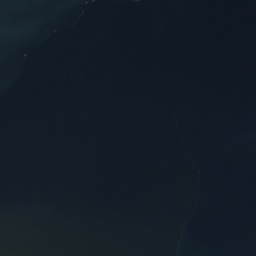Marine Debris: (85, 0, 96, 5), (53, 31, 55, 33)
